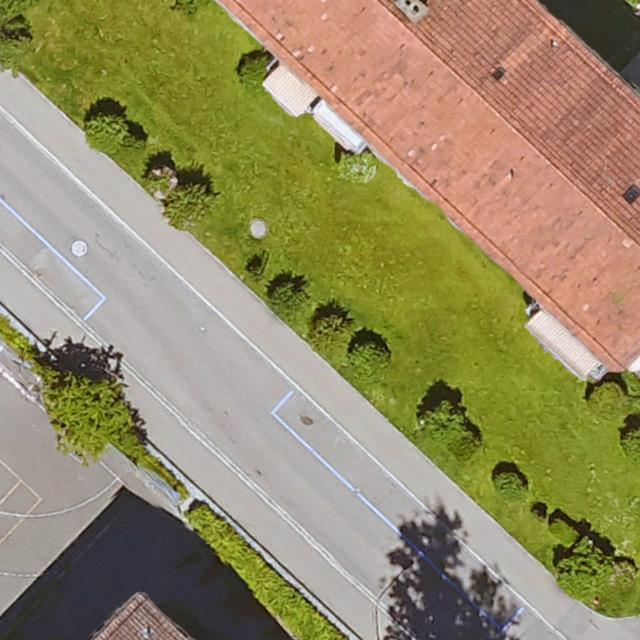tree: (43, 375, 130, 455), (556, 539, 611, 594), (0, 0, 31, 74), (165, 182, 214, 226), (86, 114, 135, 152), (421, 402, 466, 443), (310, 314, 352, 348), (349, 341, 388, 375), (588, 382, 622, 418), (339, 151, 376, 184), (264, 285, 306, 314), (448, 428, 480, 464), (491, 472, 528, 500), (621, 416, 640, 465), (240, 56, 271, 84), (527, 506, 545, 523)
